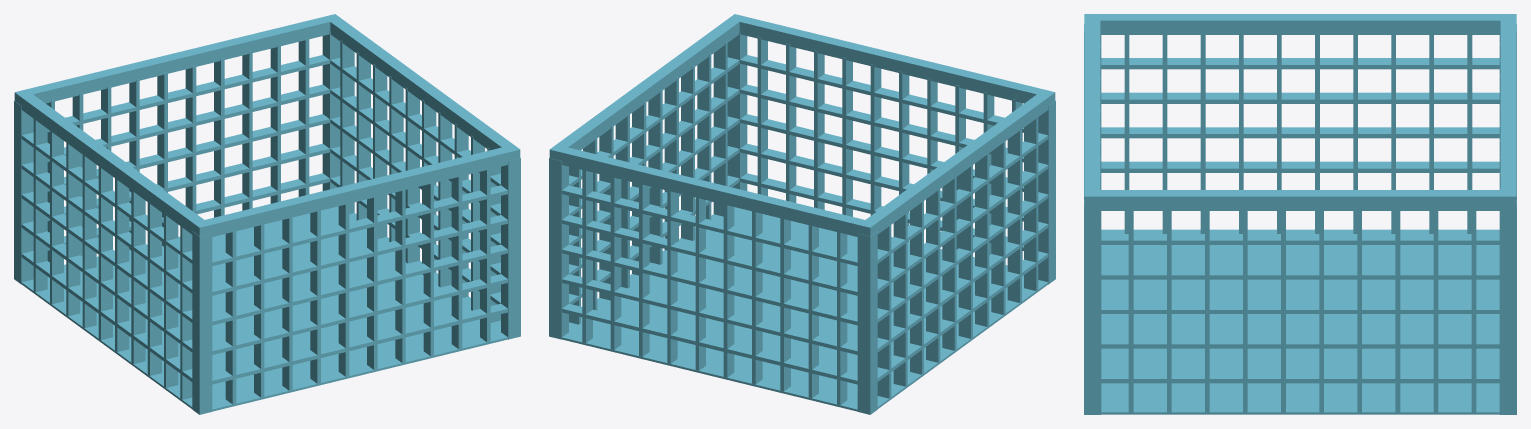
3 views of the same model, side by side, from view 1: azimuth 30°, elevation 25°; view 2: azimuth 150°, elevation 25°; view 3: azimuth 270°, elevation 25° (orthographic). The views are drawn at different scales.
Visible parts, largest first — view 1: Cube.003, Cube.004, Cube, Cube.002, Cube.001; view 2: Cube.003, Cube.004, Cube, Cube.002, Cube.001; view 3: Cube, Cube.004, Cube.002, Cube.003, Cube.001.
Part boxes in pixels (box(x1,y1,x2,y2)): Cube.003: box(33, 37, 500, 404); Cube.004: box(21, 55, 507, 384); Cube: box(21, 206, 507, 411); Cube.002: box(14, 14, 520, 236); Cube.001: box(14, 30, 520, 414); Cube.003: box(569, 37, 1038, 405); Cube.004: box(562, 55, 1048, 384); Cube: box(562, 207, 1048, 411); Cube.002: box(549, 14, 1055, 236); Cube.001: box(549, 30, 1055, 414); Cube: box(1101, 229, 1499, 414); Cube.004: box(1101, 58, 1499, 383); Cube.002: box(1084, 14, 1516, 210); Cube.003: box(1100, 33, 1500, 412); Cube.001: box(1084, 24, 1516, 414).
Size of the model in its own units: 8.01 by 4.45 by 8.01.
